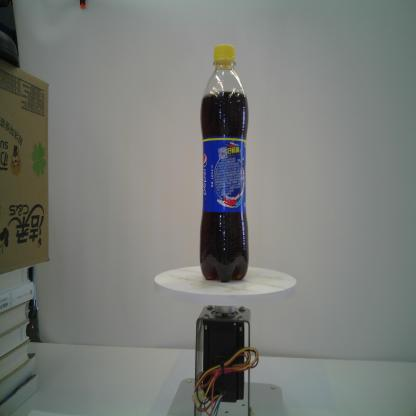Drink: (197, 41, 251, 285)
